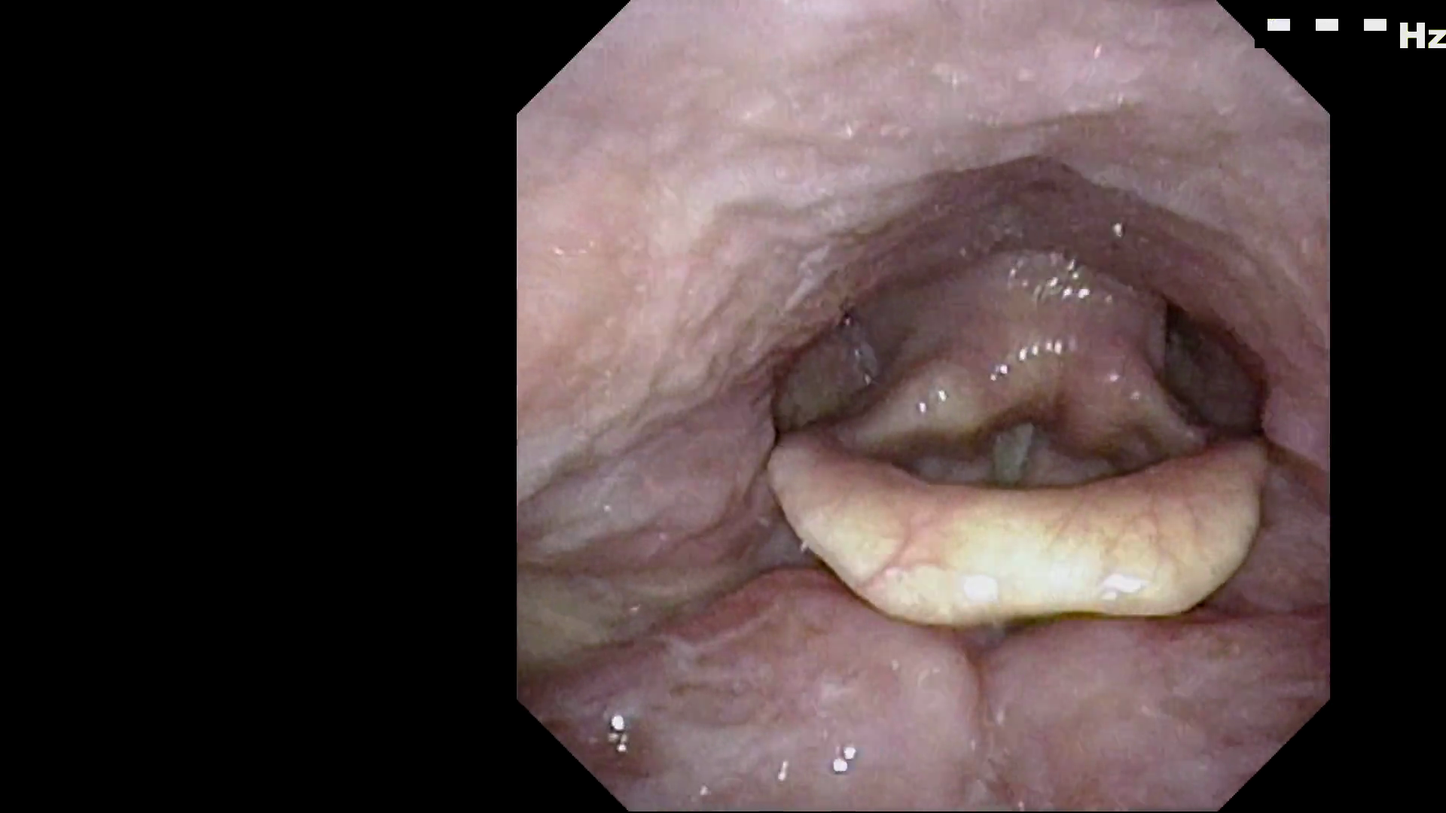epiglottis: (718, 417, 1296, 660)
trachea: (932, 379, 1087, 552)
